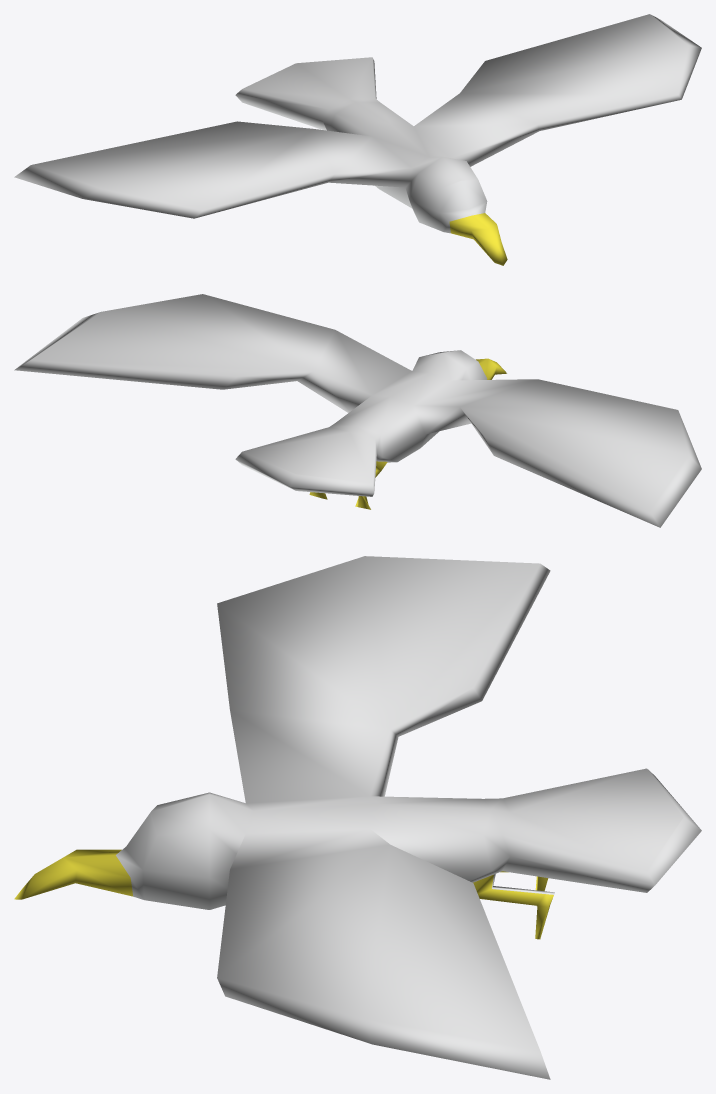
The model's file is GaivotaVoando.fbx.
3 renders of one model, top to bottom at view 1: azimuth 30°, elevation 25°; view 2: azimuth 150°, elevation 25°; view 3: azimuth 270°, elevation 25°, orthographic. The views are drawn at different scales.
Parts seen in each view (by area): view 1: GaviotaVoano; view 2: GaviotaVoano; view 3: GaviotaVoano.
Boxes of the visible parts, left/top/right/bottom form: GaviotaVoano: left=14, top=14, right=701, bottom=265; GaviotaVoano: left=14, top=294, right=701, bottom=527; GaviotaVoano: left=14, top=556, right=701, bottom=1079.
Size of the model in its own units: 9.73 by 1.18 by 5.56.
